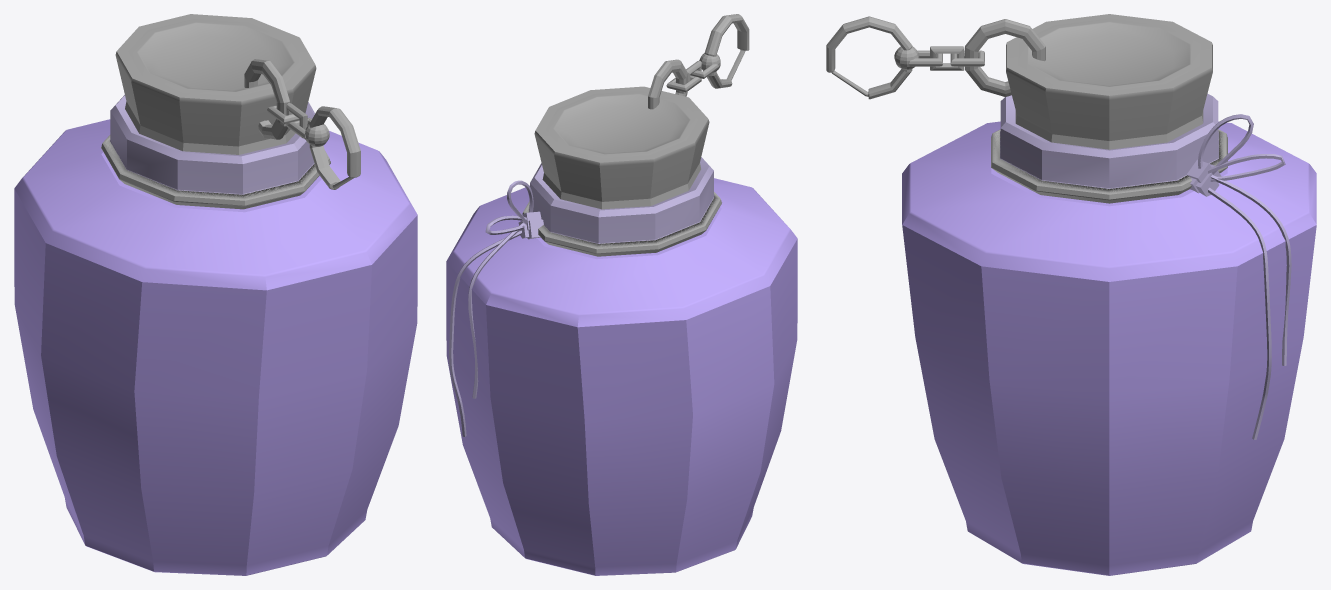
File: Galaxiebottle.fbx
The picture shows the model from 3 angles, left to right: view 1: azimuth 30°, elevation 25°; view 2: azimuth 150°, elevation 25°; view 3: azimuth 270°, elevation 25°; orthographic projection. The views are drawn at different scales.
Parts seen in each view (by area): view 1: Bottle, BottleCap, Bottlecoverthing, Bottle_ribbon, keyring, Ring; view 2: Bottle, BottleCap, Bottlecoverthing, ribbon, Bottle_ribbon, keyring, Ring; view 3: Bottle, BottleCap, Bottlecoverthing, ribbon, Bottle_ribbon, keyring, Ring.
Boxes of the visible parts, left/top/right/bottom form: Bottle: left=14, top=119, right=417, bottom=575; BottleCap: left=115, top=14, right=316, bottom=154; Bottlecoverthing: left=110, top=95, right=315, bottom=194; Bottle_ribbon: left=101, top=135, right=330, bottom=209; keyring: left=305, top=106, right=360, bottom=189; Ring: left=244, top=59, right=289, bottom=139; Bottle: left=446, top=178, right=797, bottom=575; BottleCap: left=534, top=86, right=709, bottom=209; Bottlecoverthing: left=530, top=157, right=714, bottom=243; ribbon: left=449, top=180, right=543, bottom=436; Bottle_ribbon: left=522, top=192, right=721, bottom=256; keyring: left=699, top=14, right=749, bottom=88; Ring: left=648, top=59, right=687, bottom=109; Bottle: left=902, top=121, right=1316, bottom=575; BottleCap: left=1006, top=14, right=1212, bottom=149; Bottlecoverthing: left=1000, top=93, right=1218, bottom=188; ribbon: left=1186, top=114, right=1291, bottom=439; Bottle_ribbon: left=991, top=129, right=1227, bottom=203; keyring: left=826, top=16, right=919, bottom=99; Ring: left=965, top=19, right=1045, bottom=96.
Size of the model in its own units: 9.52 by 12.87 by 11.55.
